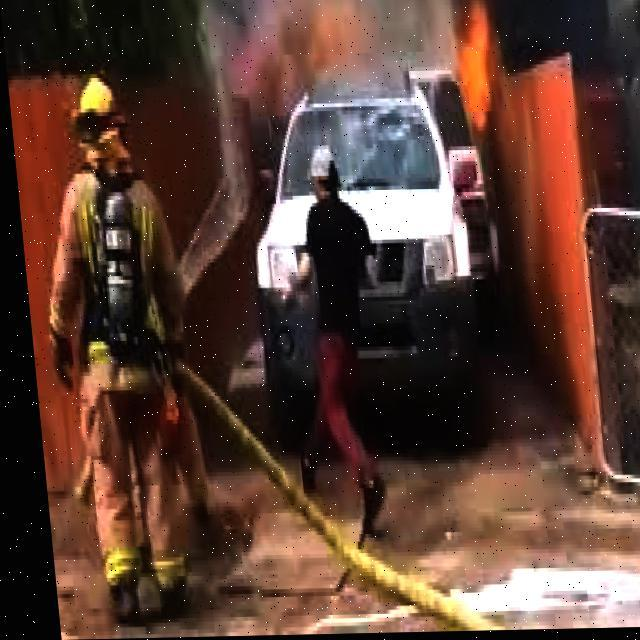Fire: (440, 7, 514, 138)
